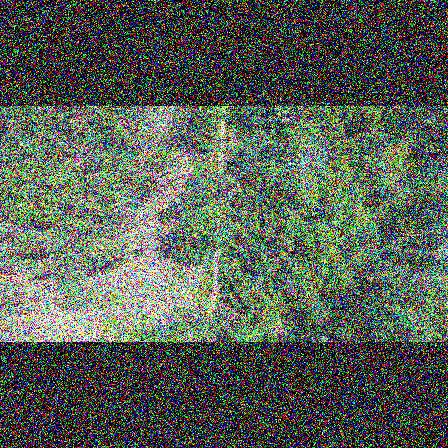Dead: (284, 131, 336, 193)
